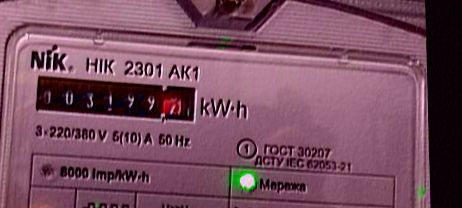0: (37, 84, 51, 103), (60, 85, 72, 104)
1: (102, 85, 112, 104)
3: (81, 88, 91, 107)
6: (165, 100, 175, 116)
9: (142, 91, 153, 110), (122, 88, 132, 106)
screen: (26, 65, 200, 131)
